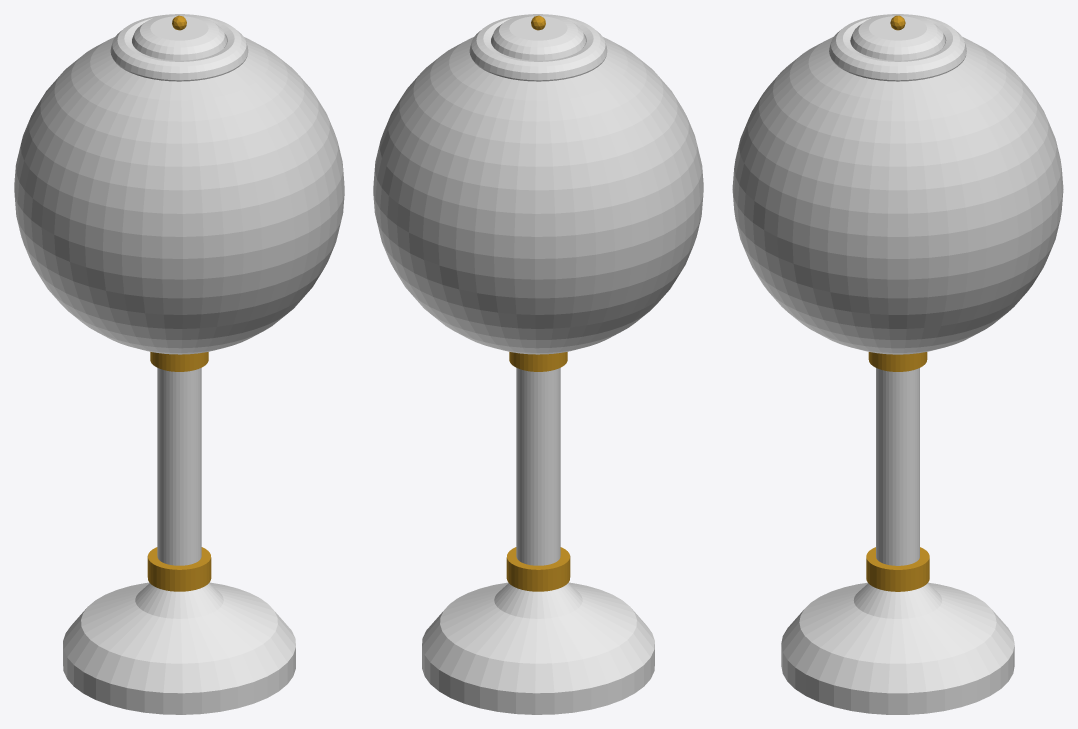
Rendered from Orrery Sun.fbx.
3 renders of one model, left to right at view 1: azimuth 30°, elevation 25°; view 2: azimuth 150°, elevation 25°; view 3: azimuth 270°, elevation 25°, orthographic.
Parts seen in each view (by area): view 1: Orrery_Sun; view 2: Orrery_Sun; view 3: Orrery_Sun.
Boxes of the visible parts, x1,y1,x2,y2 form: Orrery_Sun: (14,14,344,714); Orrery_Sun: (373,14,703,714); Orrery_Sun: (732,14,1063,714).
Bounding box in the file's own units: 599 × 1299 × 600.
